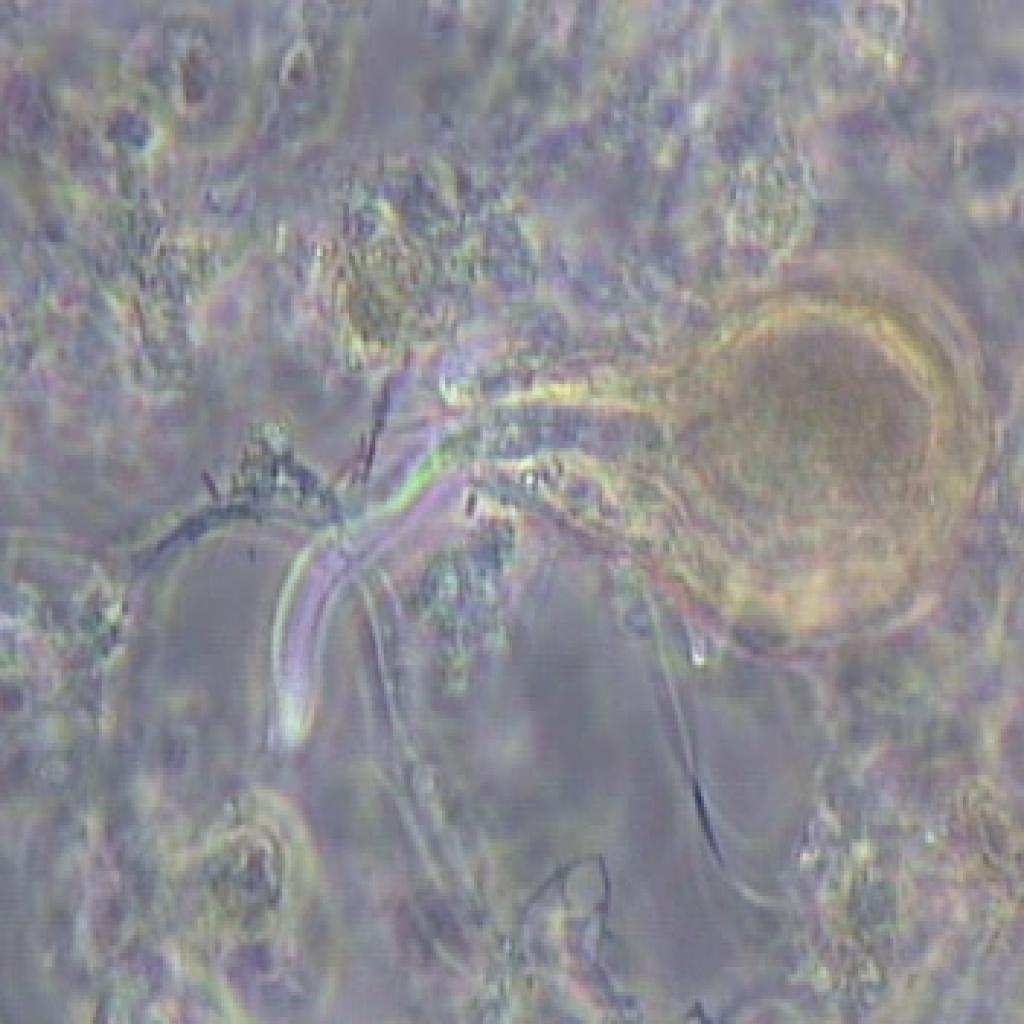Chaetopira: (294, 277, 977, 665)
